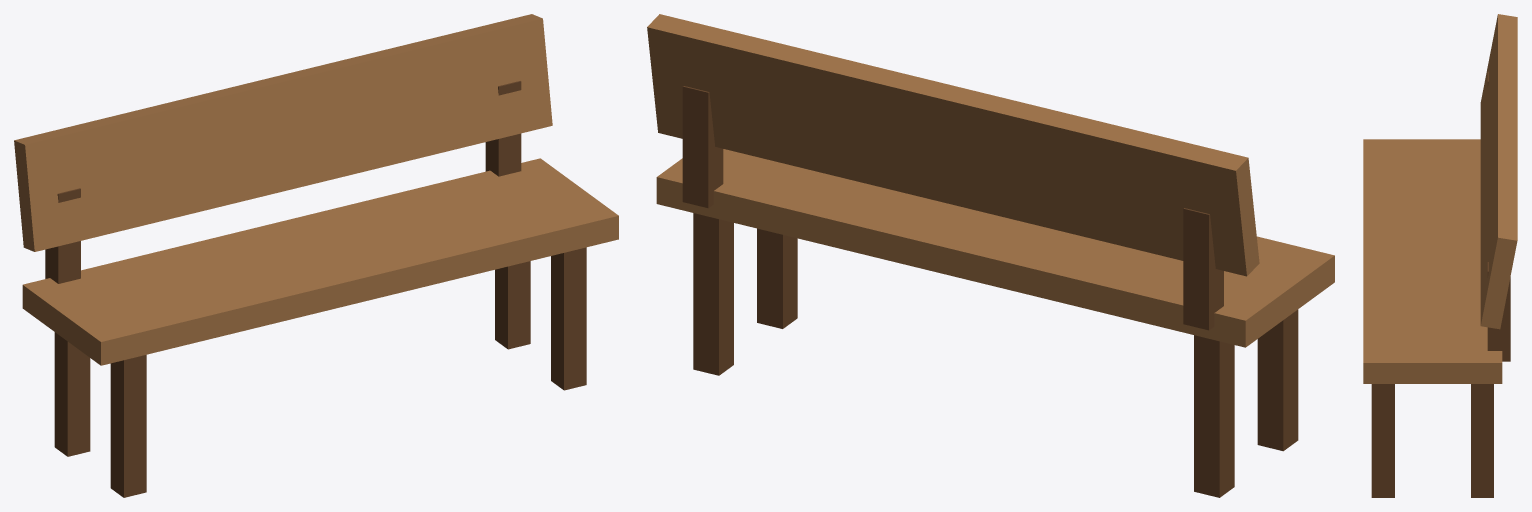
The model's file is prop_bench.glb.
3 renders of one model, left to right at view 1: azimuth 30°, elevation 25°; view 2: azimuth 150°, elevation 25°; view 3: azimuth 270°, elevation 25°, orthographic. The views are drawn at different scales.
Parts seen in each view (by area): view 1: Prop_Bench; view 2: Prop_Bench; view 3: Prop_Bench.
Boxes of the visible parts, <box> form: Prop_Bench: <box>14,14,618,497</box>; Prop_Bench: <box>647,14,1334,497</box>; Prop_Bench: <box>1363,14,1517,497</box>.
Size of the model in its own units: 1.6 by 0.9079 by 0.4656.
